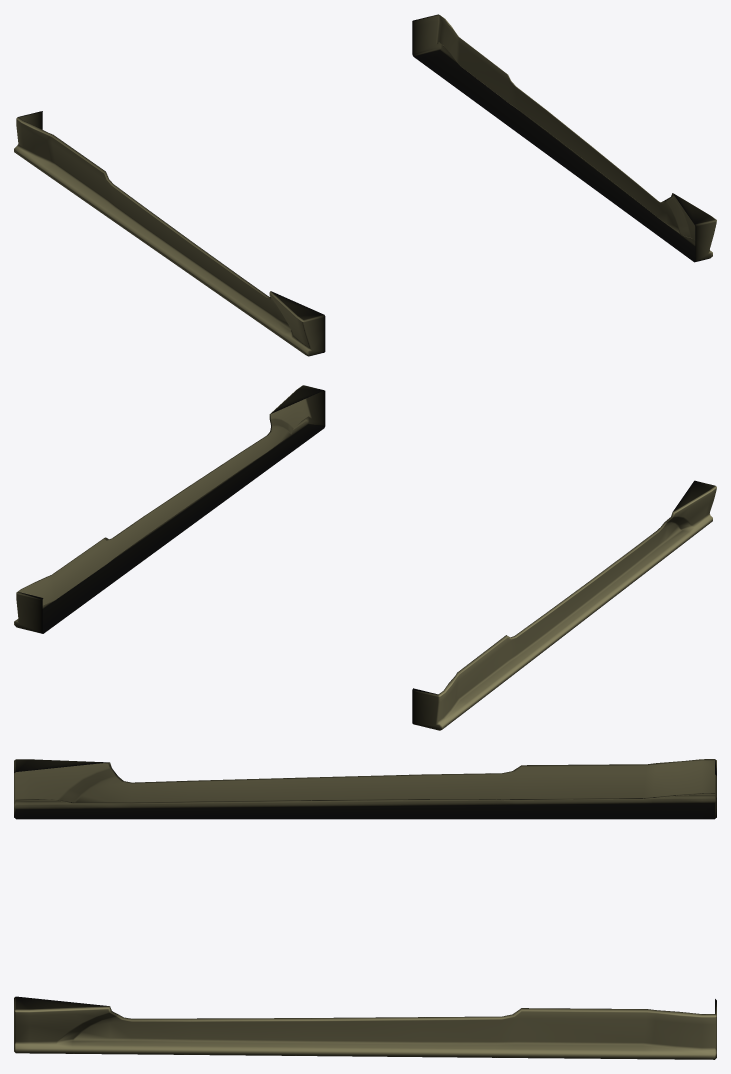
Rendered from G37_Skirt_04_Duco.fbx.
3 renders of one model, top to bottom at view 1: azimuth 30°, elevation 25°; view 2: azimuth 150°, elevation 25°; view 3: azimuth 270°, elevation 25°, orthographic. The views are drawn at different scales.
Parts seen in each view (by area): view 1: G37_Skirt_04_Duco; view 2: G37_Skirt_04_Duco; view 3: G37_Skirt_04_Duco.
Boxes of the visible parts, left/top/right/bottom form: G37_Skirt_04_Duco: left=14, top=14, right=716, bottom=356; G37_Skirt_04_Duco: left=14, top=385, right=716, bottom=730; G37_Skirt_04_Duco: left=14, top=759, right=716, bottom=1059.
Bounding box in the file's own units: 182 × 15.4 × 208.
